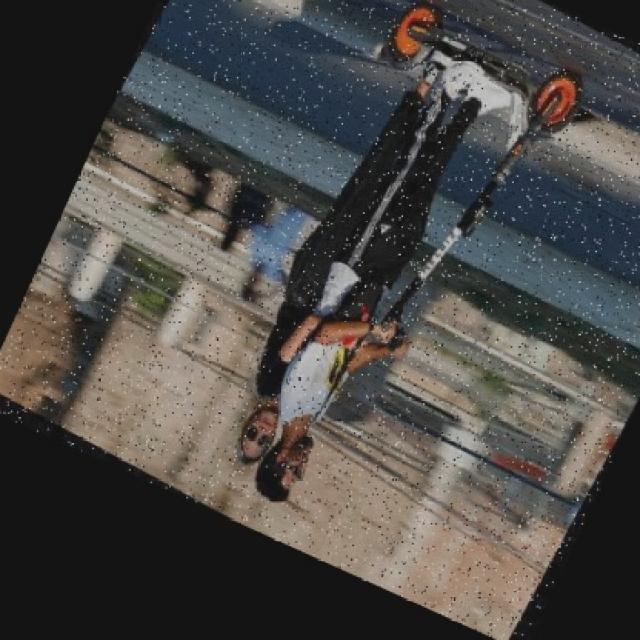bare_head: (239, 429, 319, 499), (233, 399, 276, 463)
human: (253, 57, 504, 507), (237, 38, 453, 479)
kickboard: (387, 6, 588, 143)
